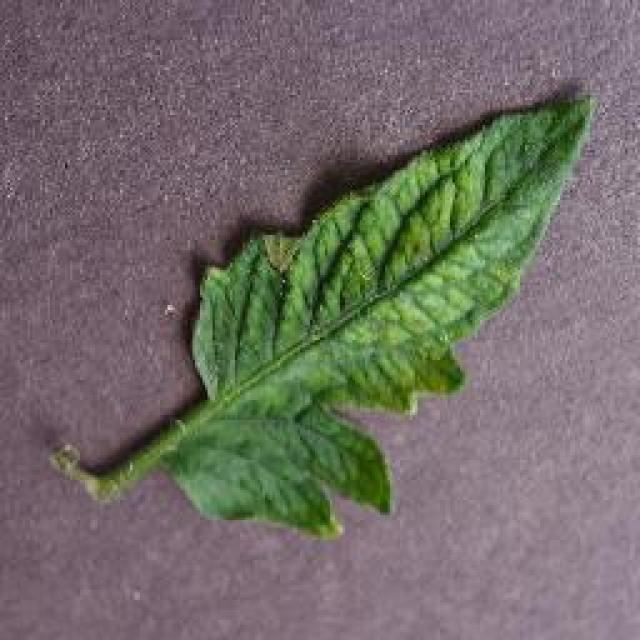Tomato spider mites leaf: (168, 96, 602, 534)
